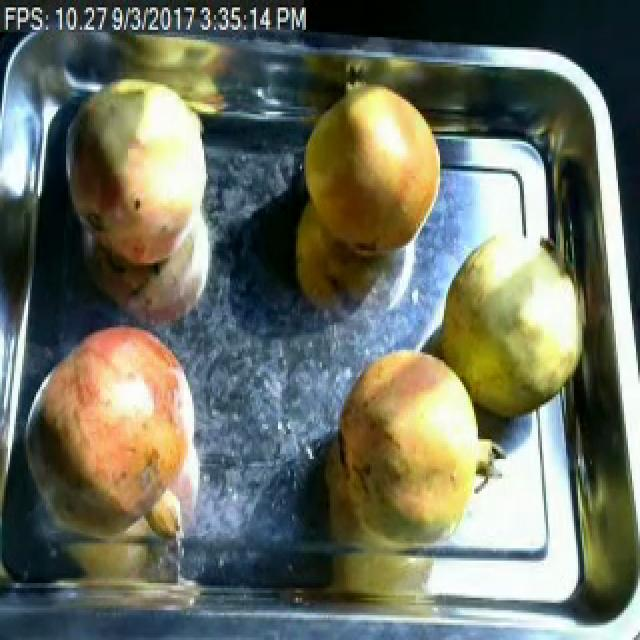fruit: (12, 305, 210, 563), (330, 340, 518, 546), (60, 67, 218, 280), (432, 223, 590, 429), (294, 67, 448, 270)
